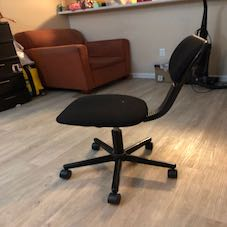chair: (54, 31, 208, 207)
